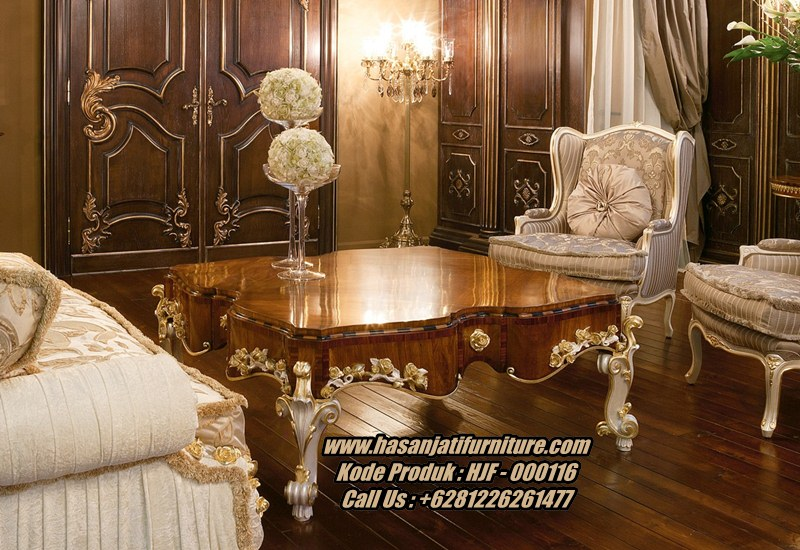Carving Table: (157, 241, 682, 508)
